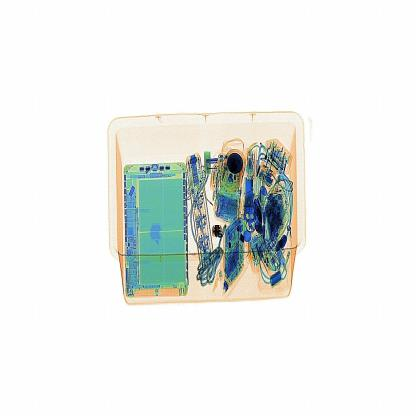scissors: (206, 214, 225, 249)
